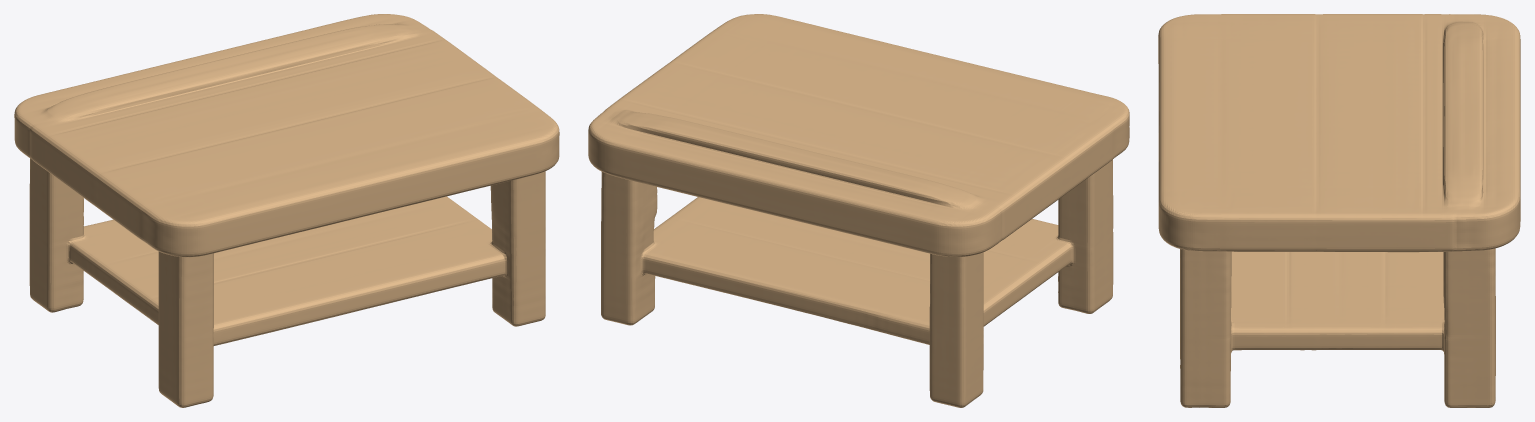
File: 目标公寓_原木小茶几_Modly低清试件.fbx
3 renders of one model, left to right at view 1: azimuth 30°, elevation 25°; view 2: azimuth 150°, elevation 25°; view 3: azimuth 270°, elevation 25°, orthographic. The views are drawn at different scales.
Parts seen in each view (by area): view 1: geometry_0; view 2: geometry_0; view 3: geometry_0.
Part boxes in pixels (left/top/right/bottom): geometry_0: left=14, top=14, right=559, bottom=407; geometry_0: left=588, top=14, right=1129, bottom=407; geometry_0: left=1158, top=14, right=1520, bottom=407.
Size of the model in its own units: 200 by 95.32 by 149.
